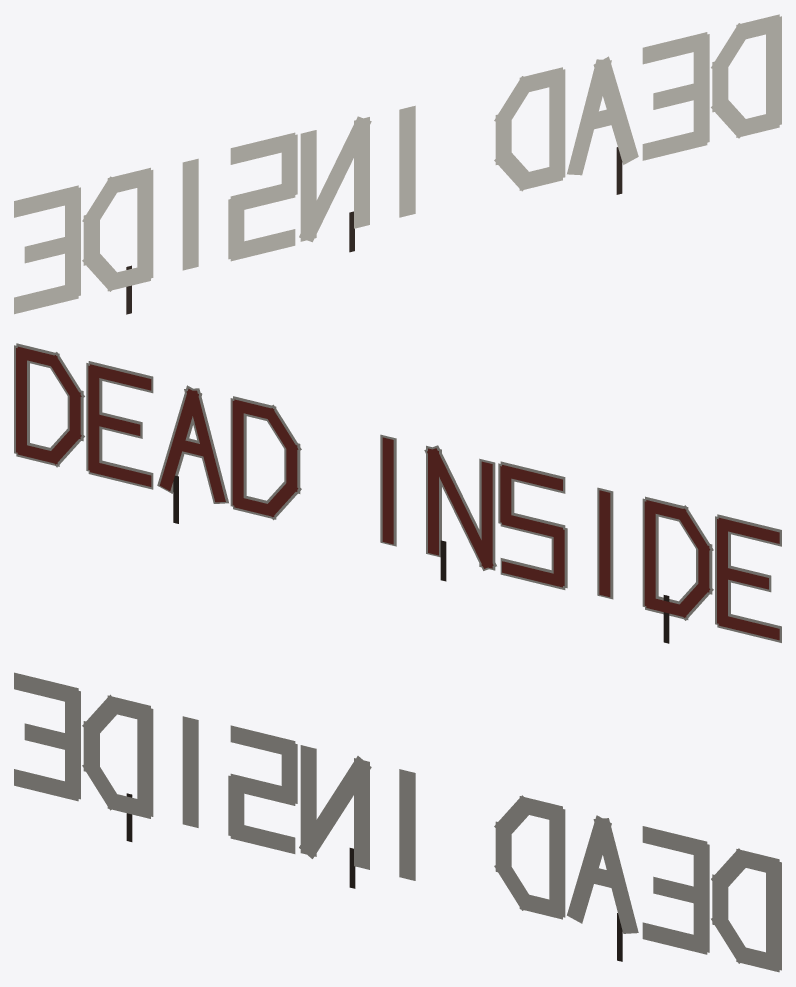
Rendered from graffiti_dead_inside.glb.
3 renders of one model, top to bottom at view 1: azimuth 30°, elevation 25°; view 2: azimuth 150°, elevation 25°; view 3: azimuth 330°, elevation 25°, orthographic.
Visible parts, largest first — view 1: graffiti_dead_inside; view 2: graffiti_dead_inside; view 3: graffiti_dead_inside.
Boxes of the visible parts, x1,y1,x2,y2 form: graffiti_dead_inside: [14, 14, 781, 314]; graffiti_dead_inside: [14, 343, 781, 643]; graffiti_dead_inside: [14, 672, 781, 972].
Size of the model in its own units: 5.17 by 0.9162 by 0.005.
2 materials, 2 textured.
